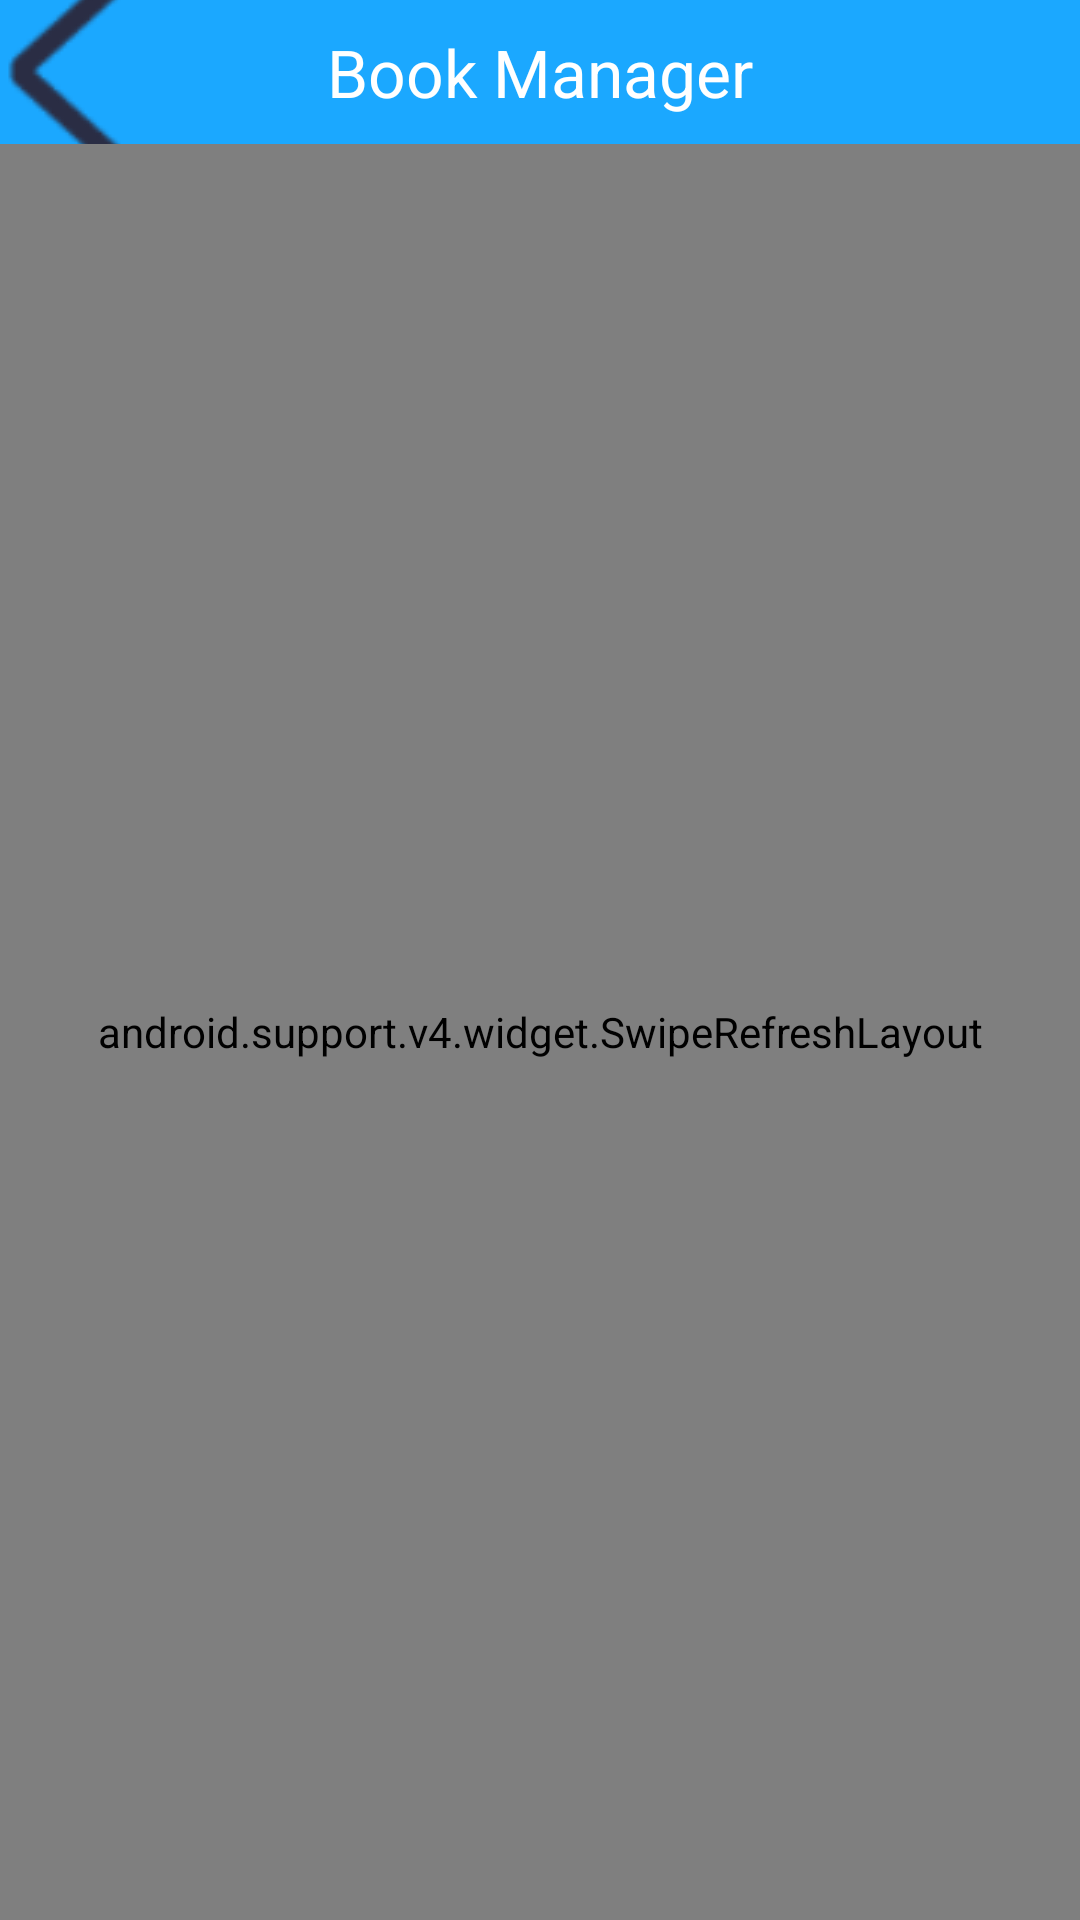

Named icons in this screenshot (1080×1920) and their centers, (x=x, y=y):
back: (x=72, y=72)
